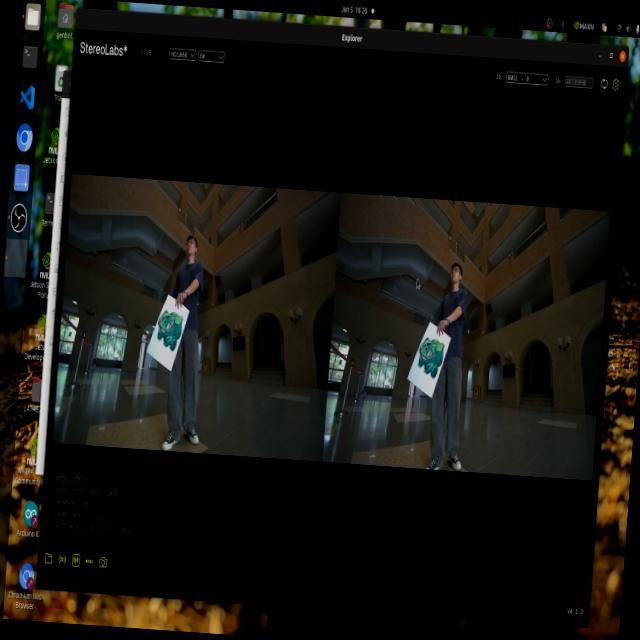green: (136, 298, 184, 351), (414, 338, 450, 376)
